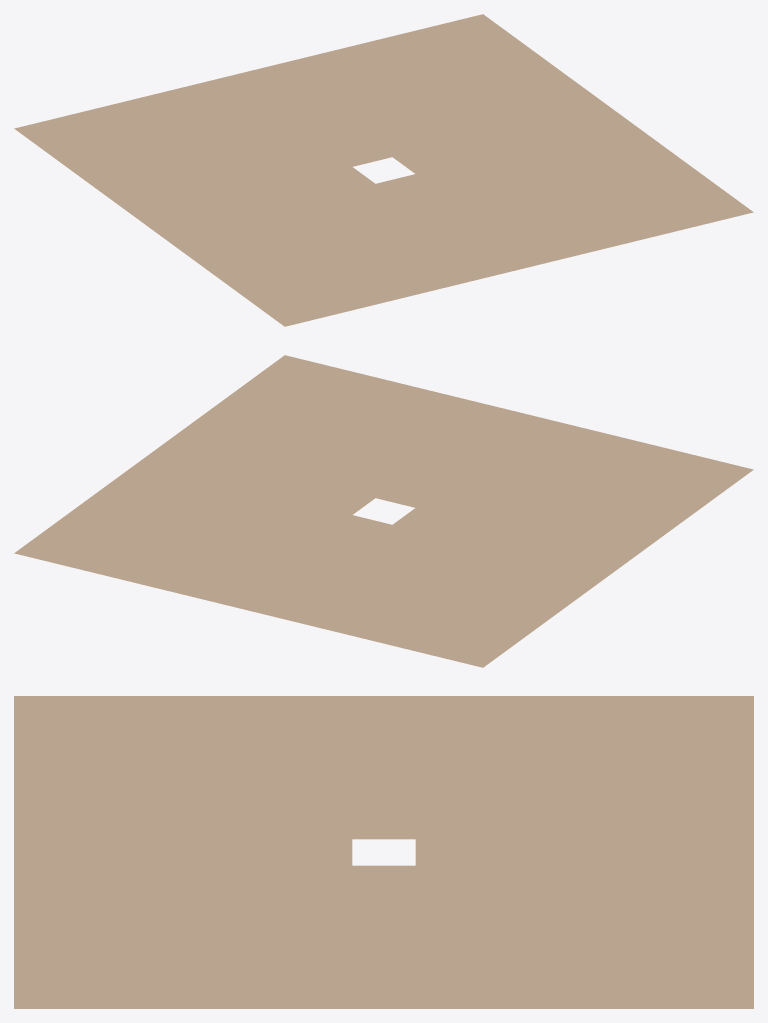
3 views of the same model, one above another, from view 1: azimuth 30°, elevation 25°; view 2: azimuth 150°, elevation 25°; view 3: azimuth 270°, elevation 25° (orthographic). The views are drawn at different scales.
Parts seen in each view (by area): view 1: FarGround_L1_2; view 2: FarGround_L1_2; view 3: FarGround_L1_2.
Boxes of the visible parts, bbox=[...] form: FarGround_L1_2: bbox=[14, 14, 753, 326]; FarGround_L1_2: bbox=[14, 355, 753, 667]; FarGround_L1_2: bbox=[14, 696, 753, 1008].
Bounding box in the file's own units: 6000 × 0 × 6000.
